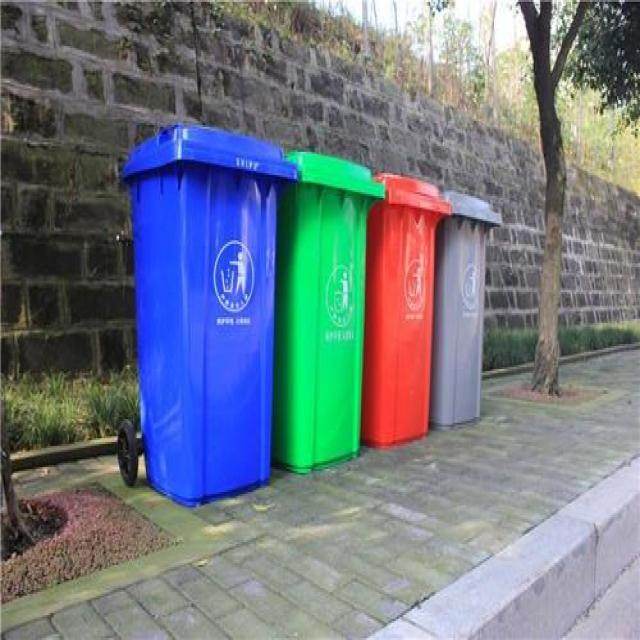garbage_bin: (120, 121, 297, 504), (271, 150, 384, 471), (359, 171, 446, 448), (429, 188, 500, 430)
